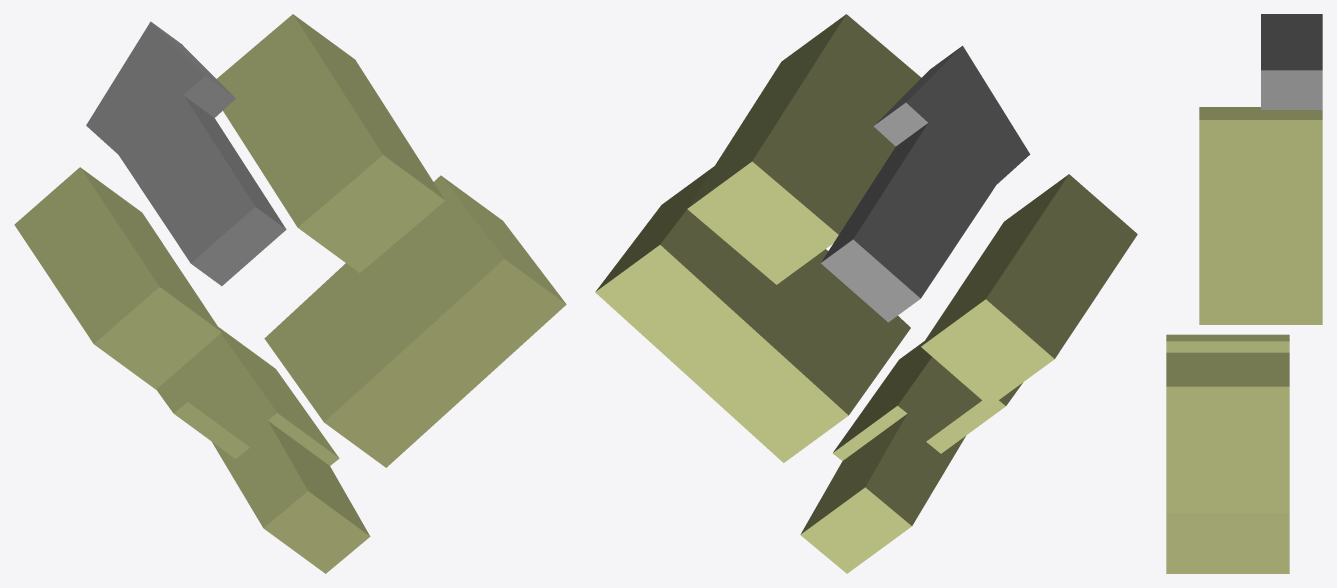
The picture shows the model from 3 angles, left to right: view 1: azimuth 30°, elevation 25°; view 2: azimuth 150°, elevation 25°; view 3: azimuth 270°, elevation 25°; orthographic projection. The views are drawn at different scales.
Parts seen in each view (by area): view 1: 0_1_0_0_1_0_3_0_0_1; view 2: 0_1_0_0_1_0_3_0_0_1; view 3: 0_1_0_0_1_0_3_0_0_1.
Boxes of the visible parts, <box> form: 0_1_0_0_1_0_3_0_0_1: <box>14,14,566,573</box>; 0_1_0_0_1_0_3_0_0_1: <box>595,14,1137,573</box>; 0_1_0_0_1_0_3_0_0_1: <box>1166,14,1322,573</box>.
Size of the model in its own units: 26.35 by 27.56 by 7.6.
